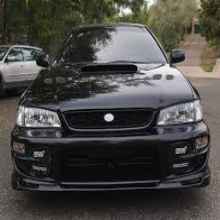no damage: (12, 24, 211, 195), (1, 40, 43, 93)
